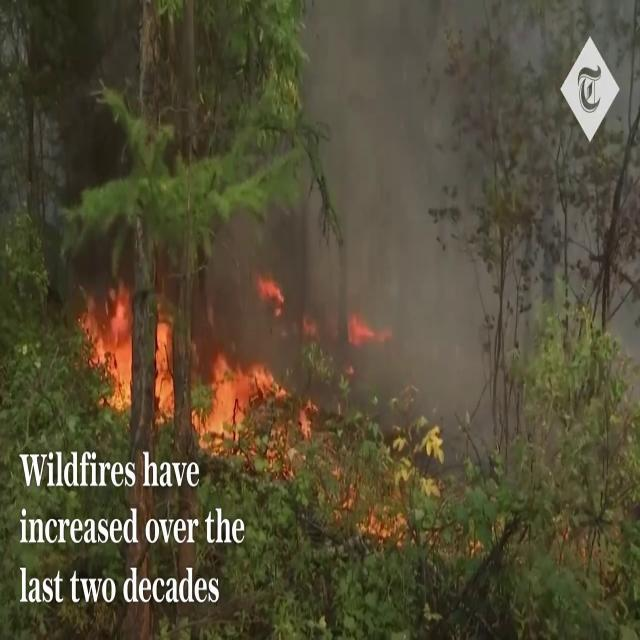Fire: (75, 276, 179, 430), (195, 344, 322, 466)
Smoke: (224, 0, 554, 350)
